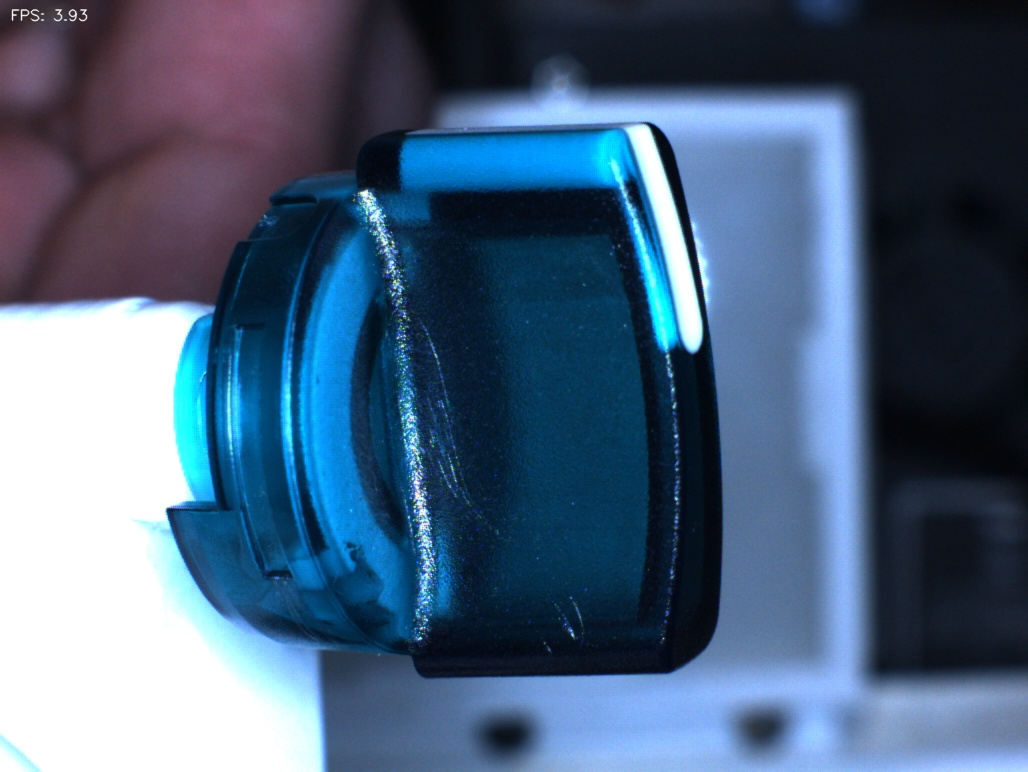Givrage: (395, 308, 492, 525)
